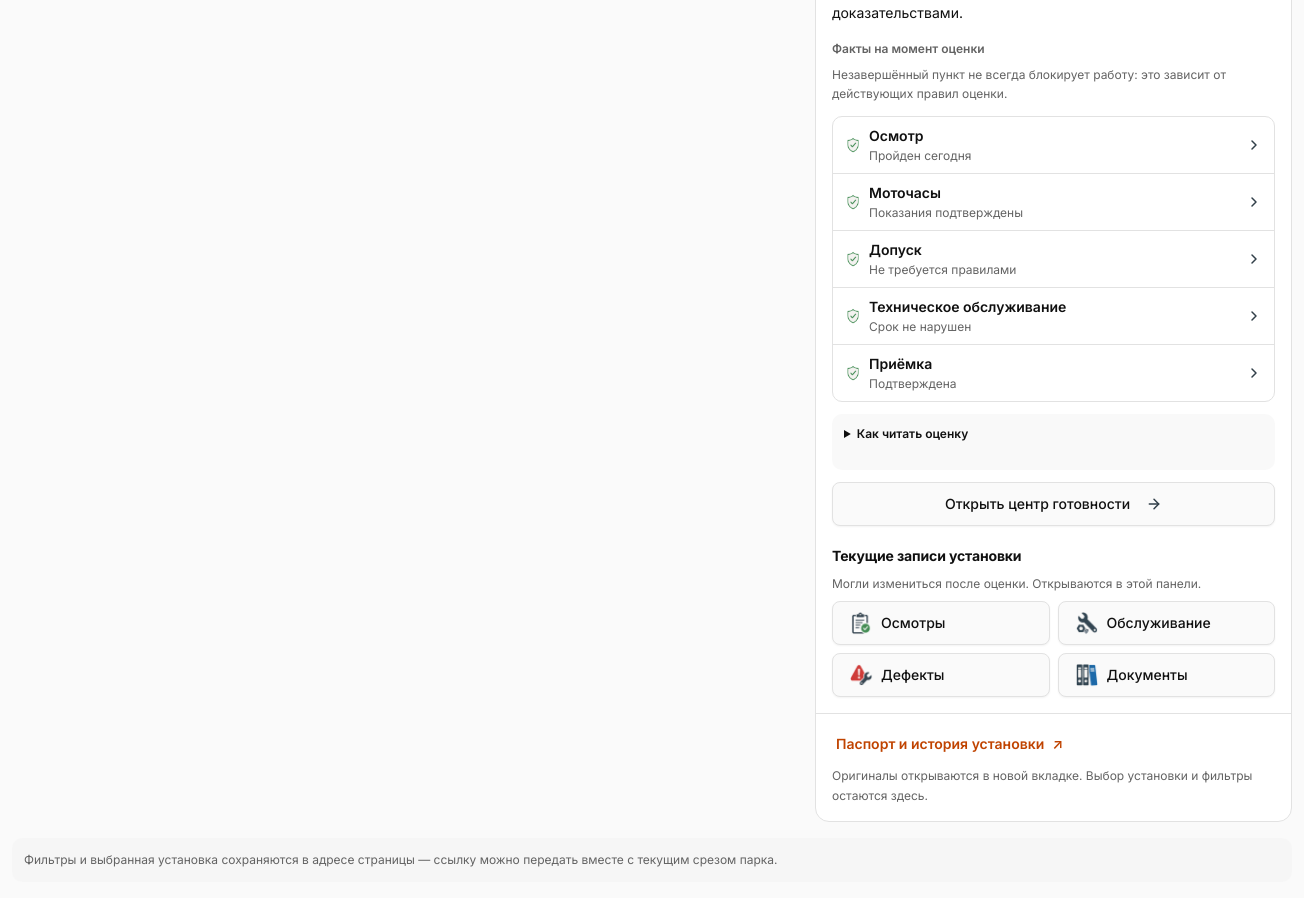
Test: Fleet evidence interactions › роль без права на осмотры машиниста (403) видит спокойную подсказку, а не ошибку загрузки
The image size is (1304, 898).
(page scrolled)
What coordinates should you click on to do the following:
click the button "Осмотры"
I would click on:
 (941, 623)
Its box is [832,601,1050,645].
(page scrolled)
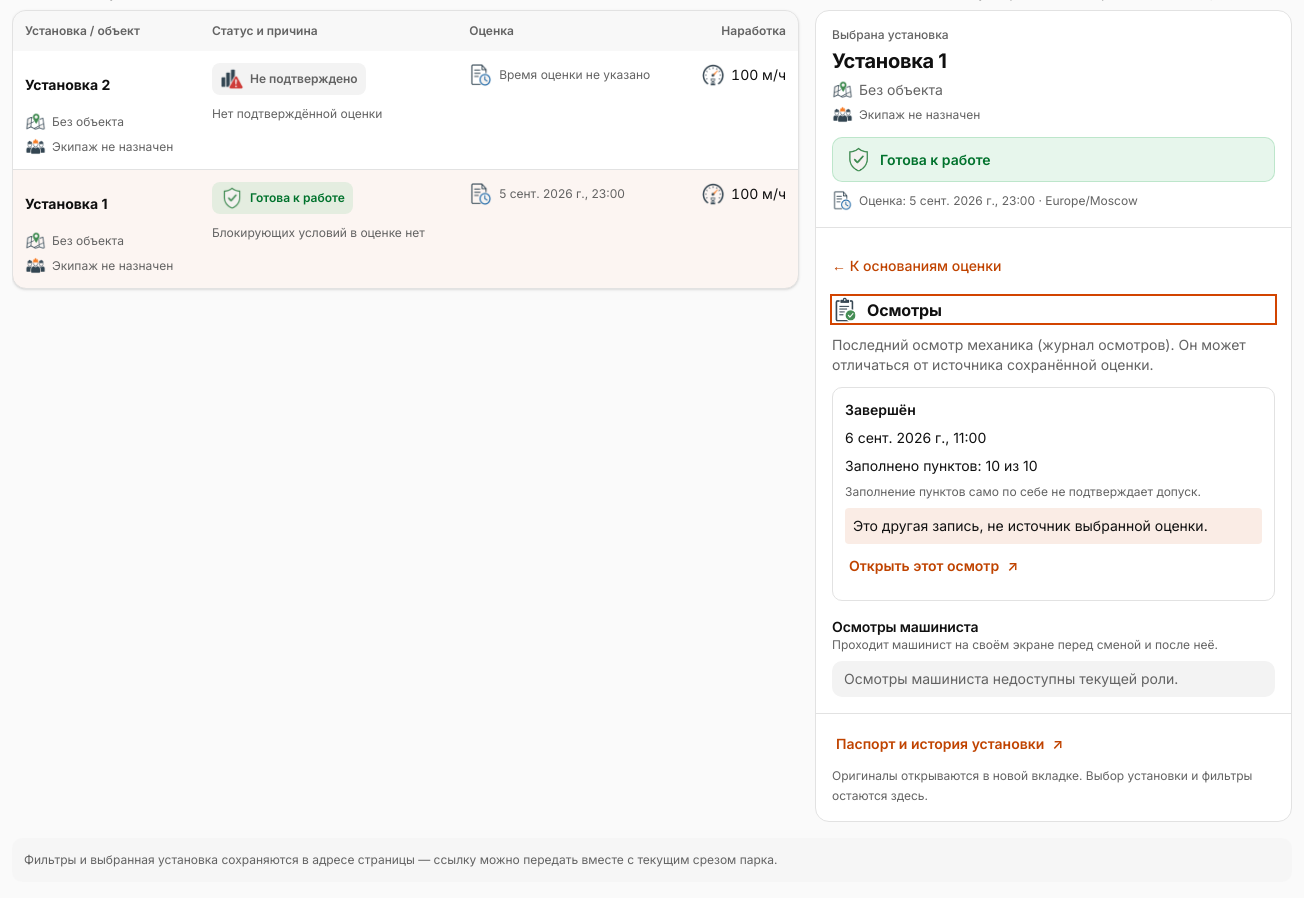
Expected: the text "Осмотры машиниста недоступны текущей роли." is shown, [832,661,1275,697]
